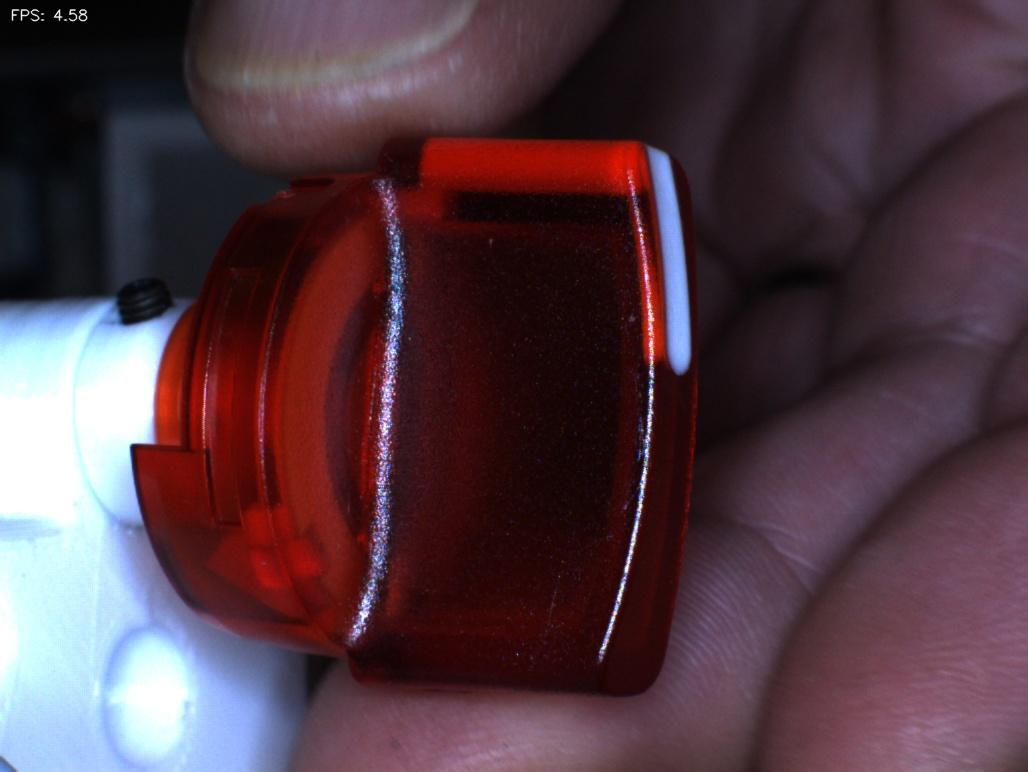Givrage: (509, 551, 590, 678), (606, 366, 671, 524)
